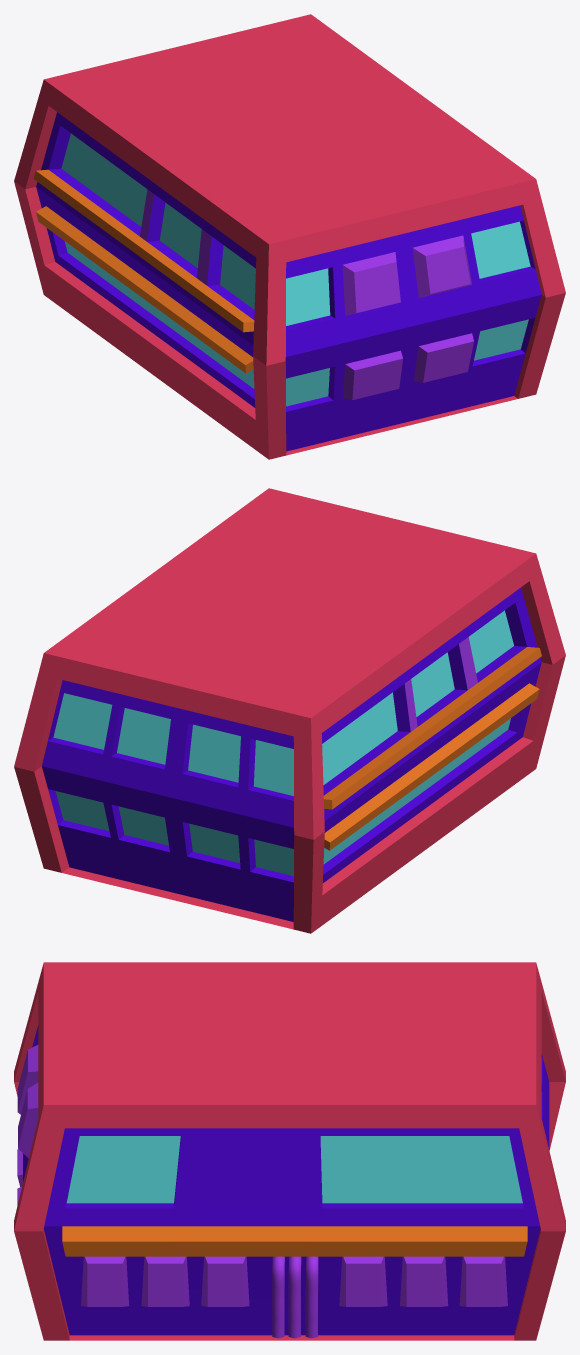
Rendered from FBX_LC_mHouse4.fbx.
3 views of the same model, one above another, from view 1: azimuth 30°, elevation 25°; view 2: azimuth 150°, elevation 25°; view 3: azimuth 270°, elevation 25° (orthographic). The views are drawn at different scales.
Parts seen in each view (by area): view 1: Cube.024; view 2: Cube.024; view 3: Cube.024.
Boxes of the visible parts, bbox=[...] form: Cube.024: bbox=[14, 14, 565, 459]; Cube.024: bbox=[14, 488, 565, 933]; Cube.024: bbox=[14, 962, 565, 1340].
Bounding box in the file's own units: 1502 × 993 × 2109.
